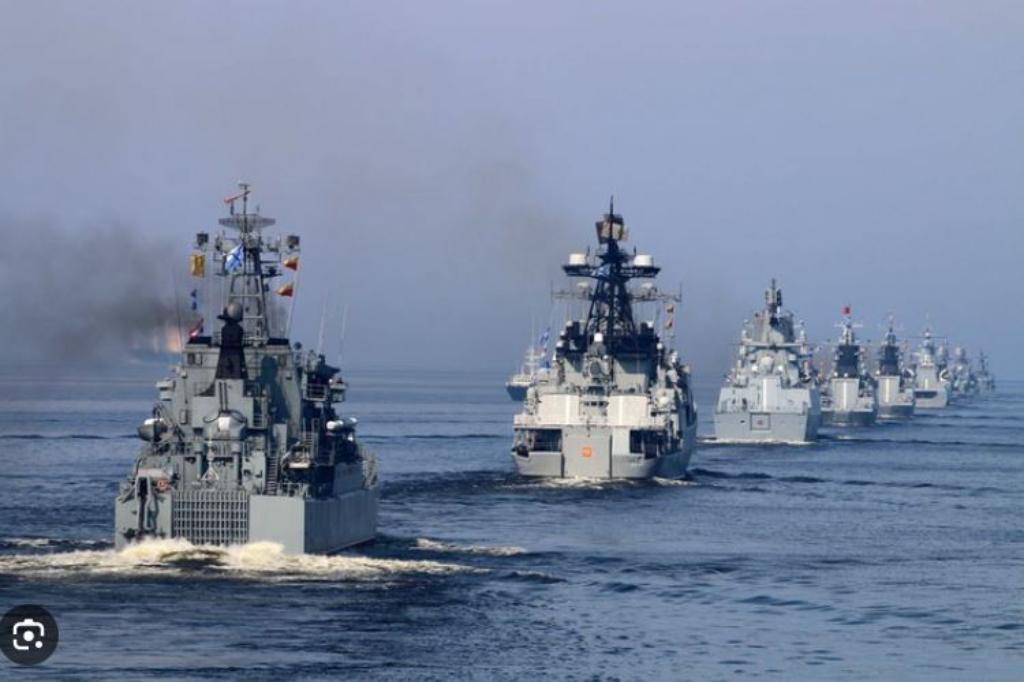Warship: (88, 204, 388, 570), (502, 213, 696, 489), (712, 276, 826, 452), (817, 301, 881, 427), (872, 314, 918, 420), (908, 325, 952, 411)
